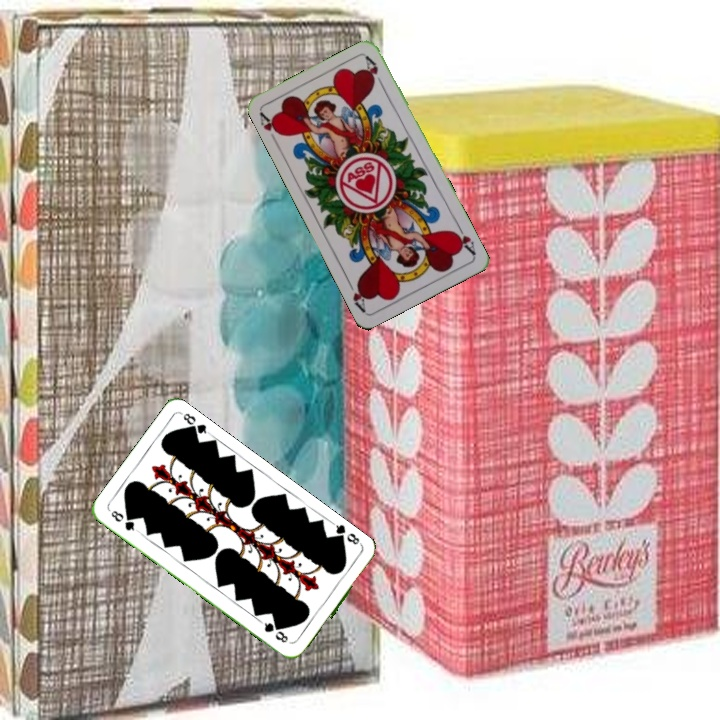G8: (330, 520, 365, 549), (107, 506, 141, 535)
HA: (255, 109, 285, 147), (449, 220, 478, 258)
